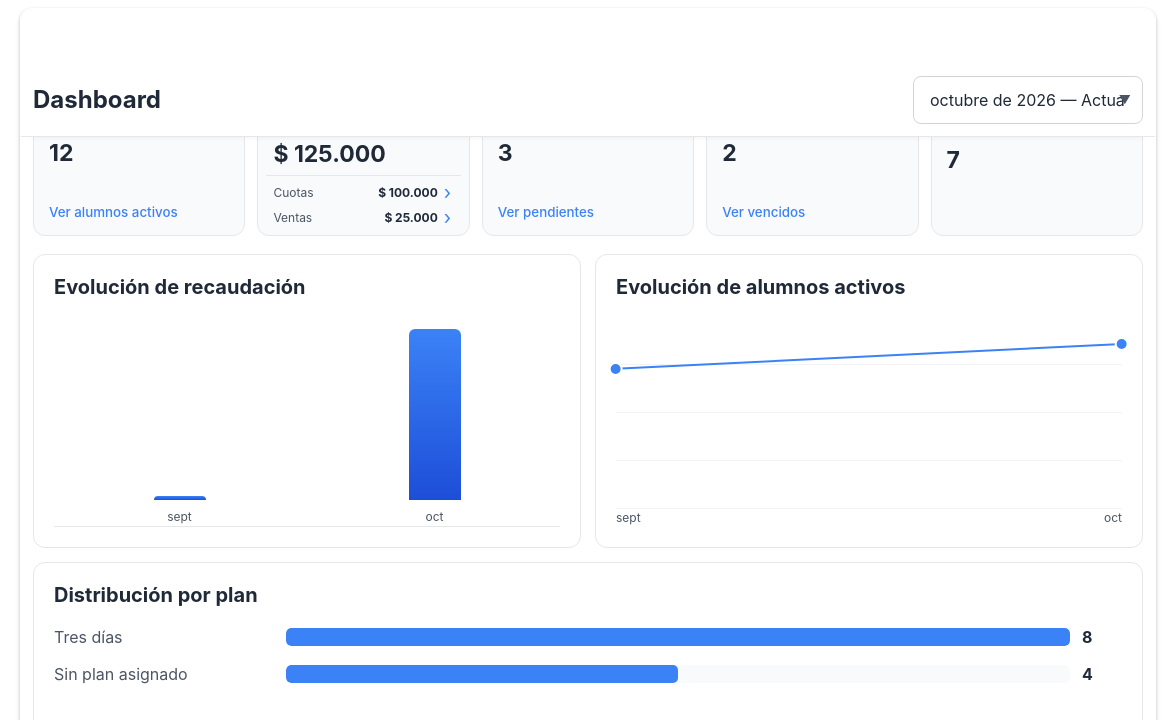
Test: navega a Personas con filtro real de vencidos y período
The width and height of the screenshot is (1164, 720).
Expected: the text "12" is shown, [49, 139, 73, 167]
Click the button "Pagos vencidos 2 Ver vencidos" at [812, 168], box [706, 100, 919, 236]
(page scrolled)
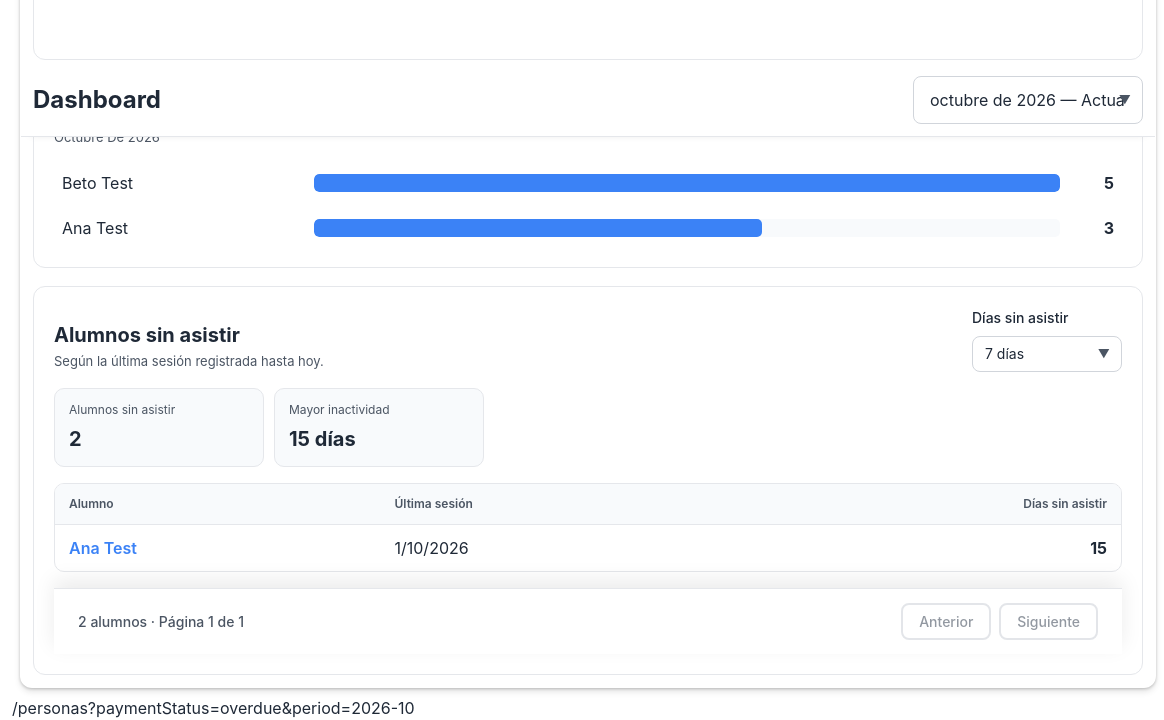
Expected: the text with test id "location" shows "/personas?paymentStatus=overdue&period=", [12, 698, 415, 718]
